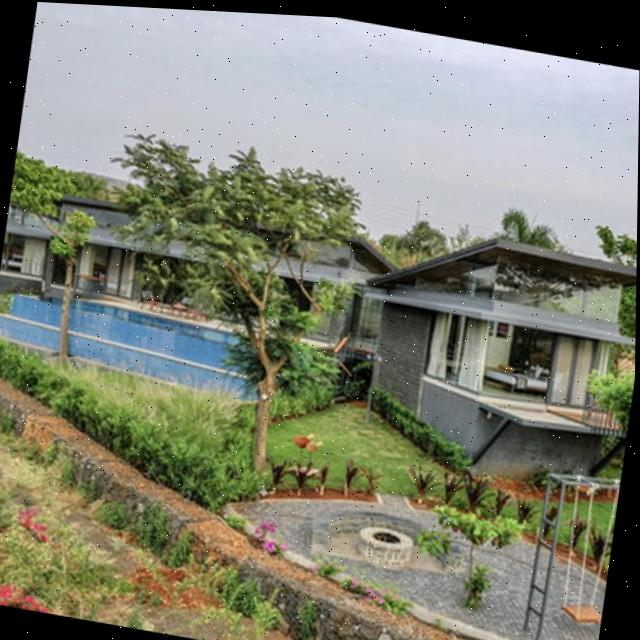building: (345, 211, 637, 503), (0, 171, 389, 353)
